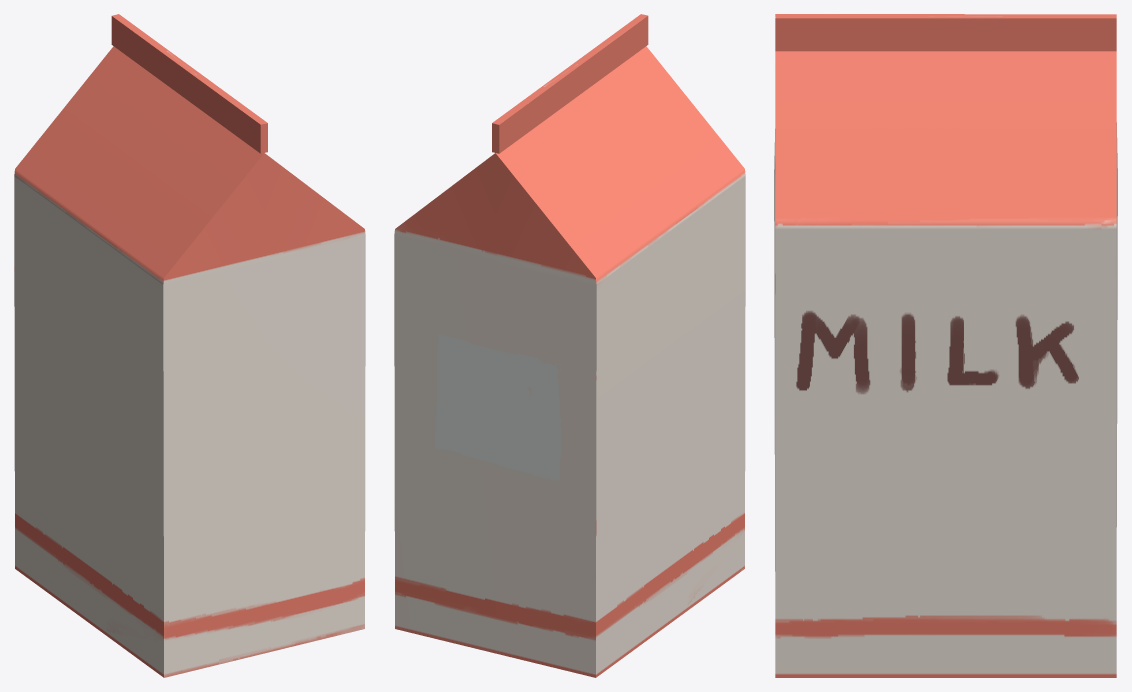
Rendered from milk.fbx.
3 views of the same model, side by side, from view 1: azimuth 30°, elevation 25°; view 2: azimuth 150°, elevation 25°; view 3: azimuth 270°, elevation 25° (orthographic). The views are drawn at different scales.
Visible parts, largest first — view 1: milk; view 2: milk; view 3: milk.
Boxes of the visible parts, box(x1,y1,x2,y2) form: milk: box(14, 14, 365, 677); milk: box(394, 14, 745, 677); milk: box(774, 14, 1117, 677).
Size of the model in its own units: 26.19 by 65.49 by 33.69.
Materials: 1 (1 with a texture image).
